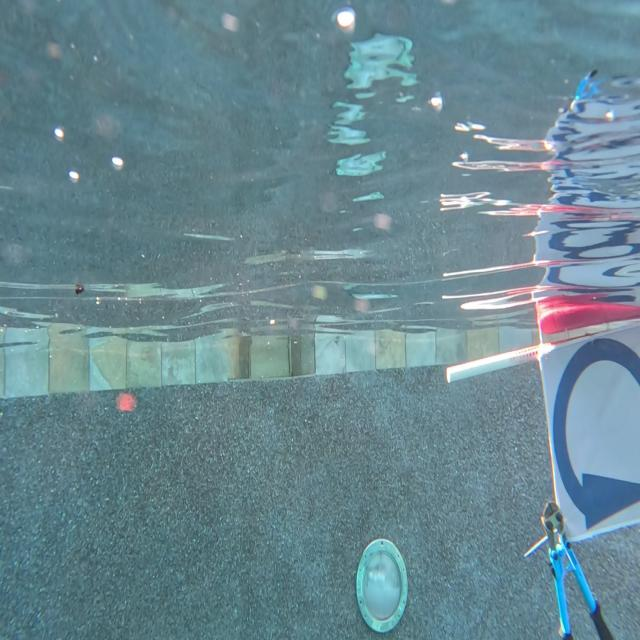blue_side: (542, 340, 640, 522)
